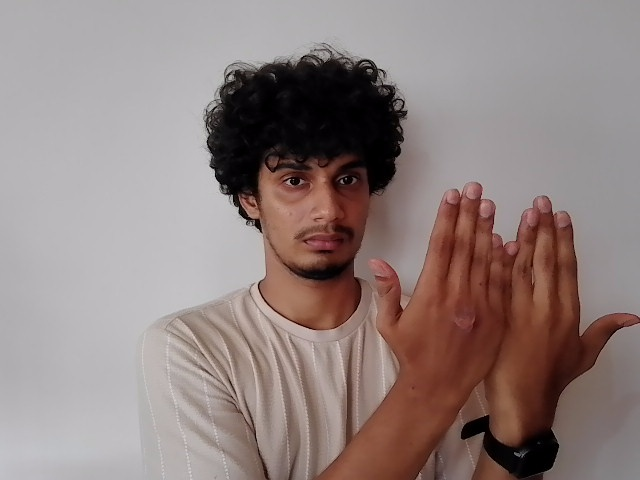school: (373, 180, 640, 385)
